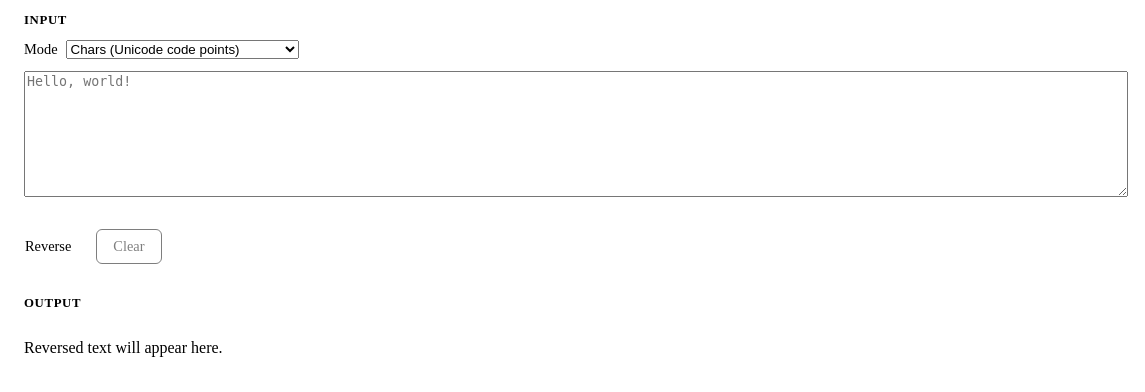
Scenario: TextReverserTool › clears input and output
Type "Hello" into the text box named "Text to reverse" at (576, 134), box [24,71,1128,197]
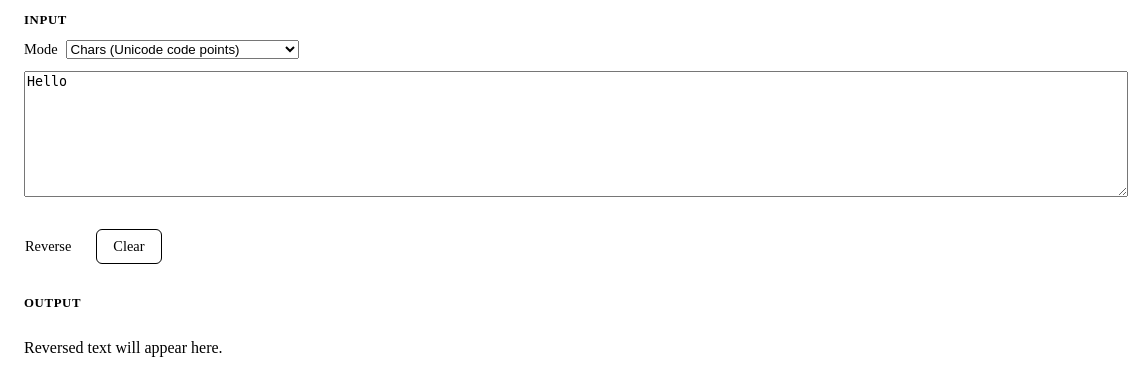
Click the button "Reverse" at (48, 246), box [8,229,88,264]
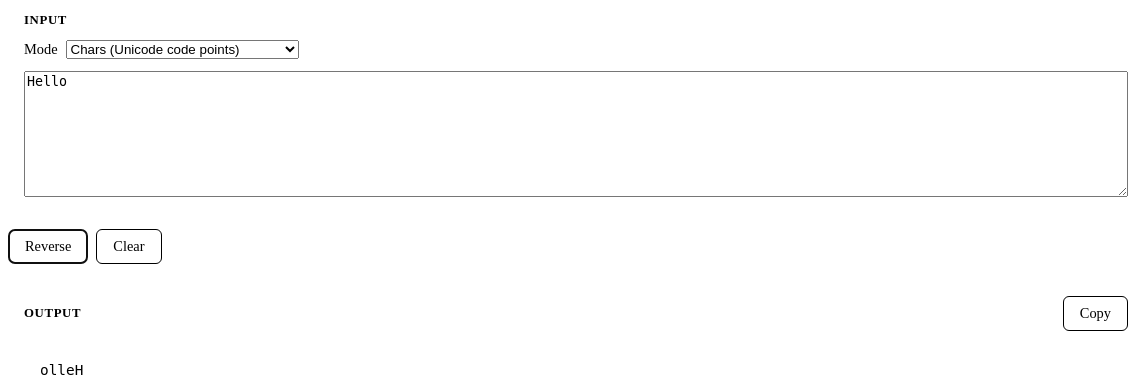
Click the button "Clear" at (129, 246), box [96,229,162,264]
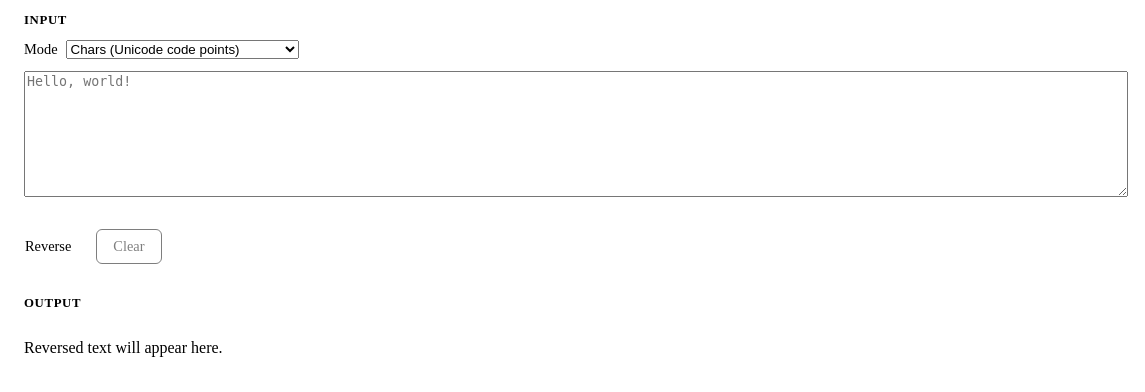
expect the text box named "Text to reverse" is empty: met, box [24,71,1128,197]
expect the text "Reversed text will appear here." is shown: met, box [24,339,223,356]
